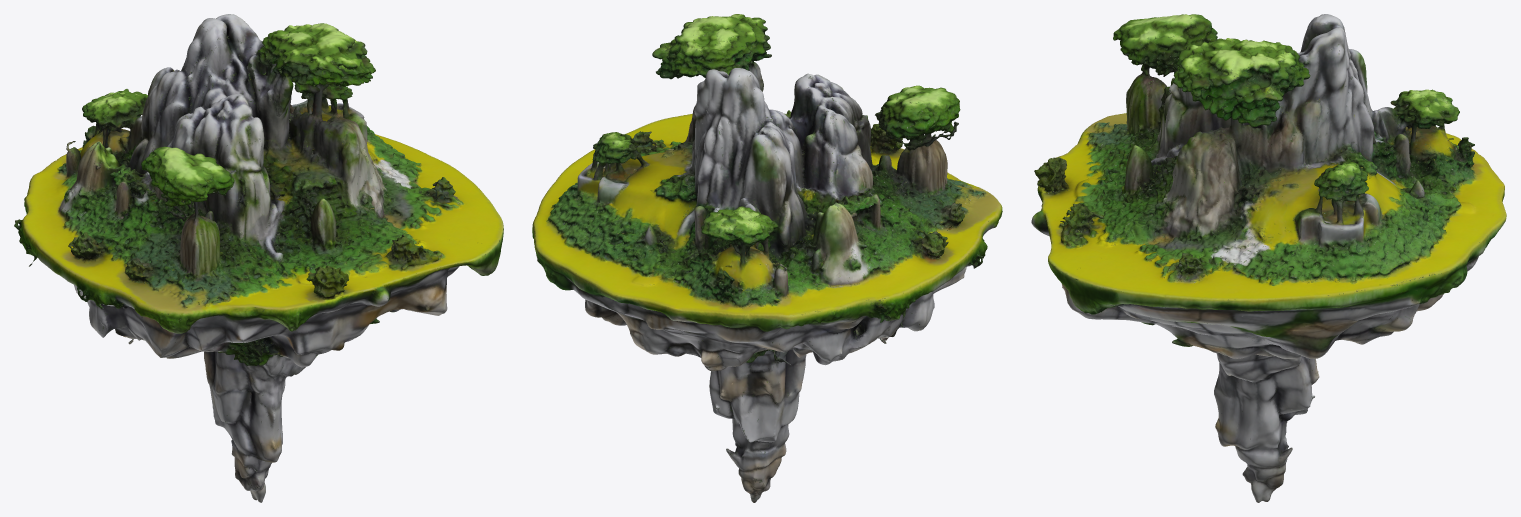
File: small-island-compressed.glb
The picture shows the model from 3 angles, left to right: view 1: azimuth 30°, elevation 25°; view 2: azimuth 150°, elevation 25°; view 3: azimuth 270°, elevation 25°; orthographic projection. The views are drawn at different scales.
Bounding box in the file's own units: 1.79 × 2 × 1.8.
1 material, 1 textured.
